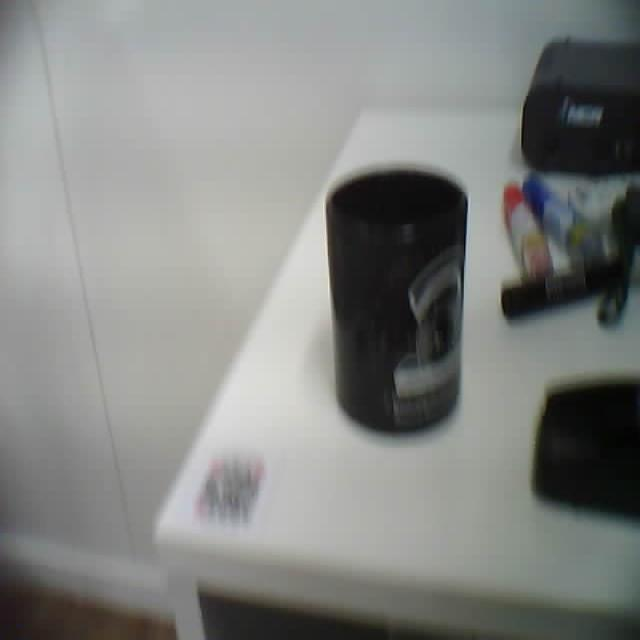caneca: (325, 165, 466, 433)
